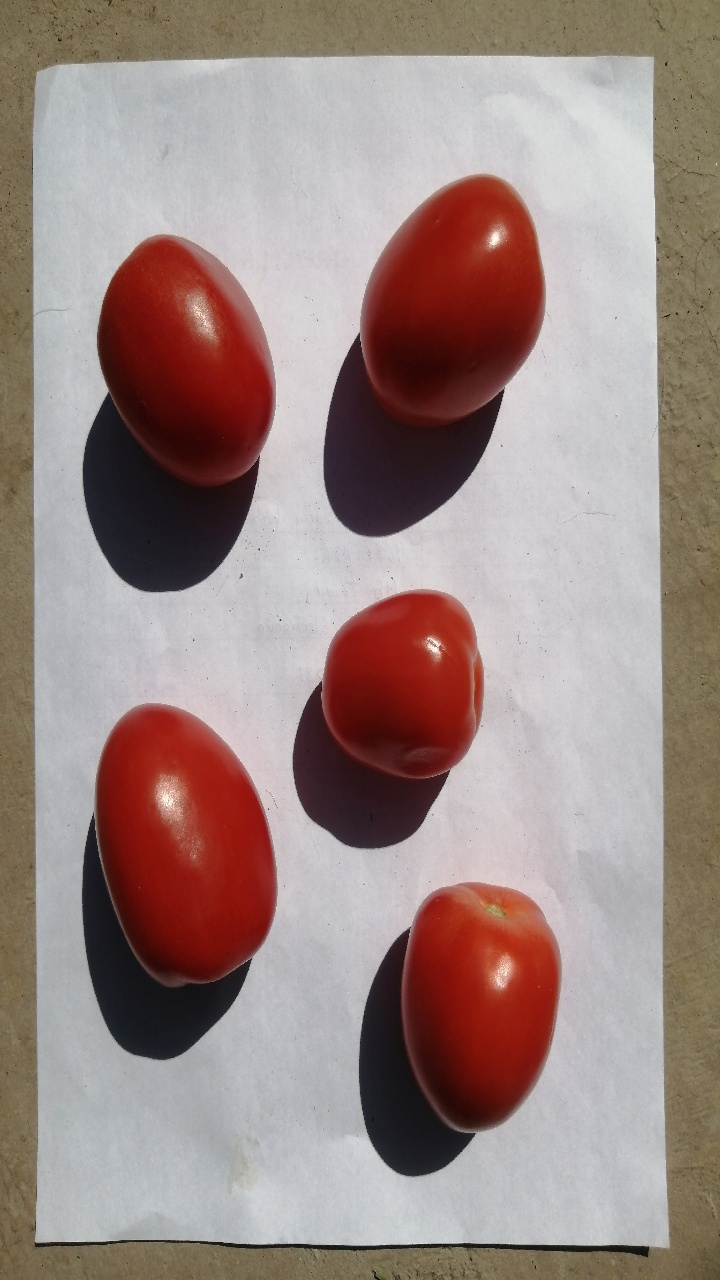tomateRojo: (72, 668, 281, 1012), (75, 199, 298, 502), (340, 159, 569, 442), (386, 859, 575, 1157), (292, 574, 500, 806)
